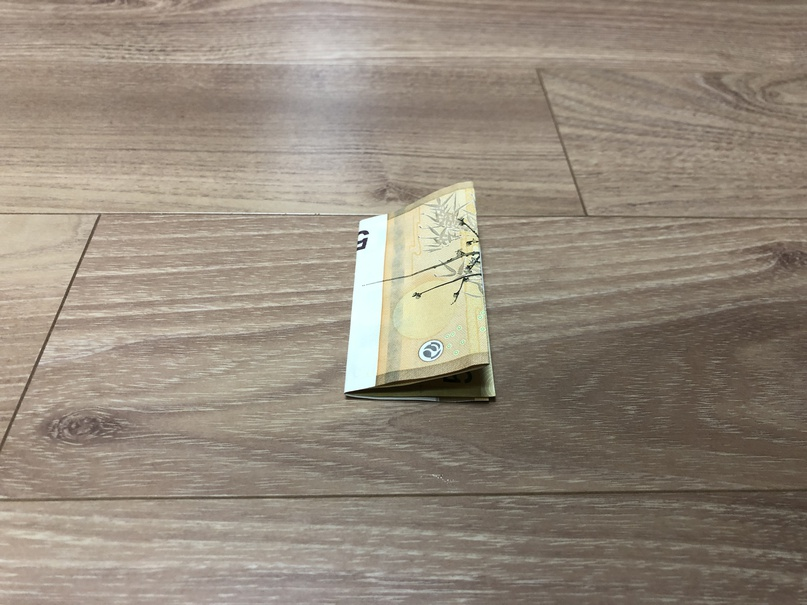50000won: (344, 181, 498, 405)
